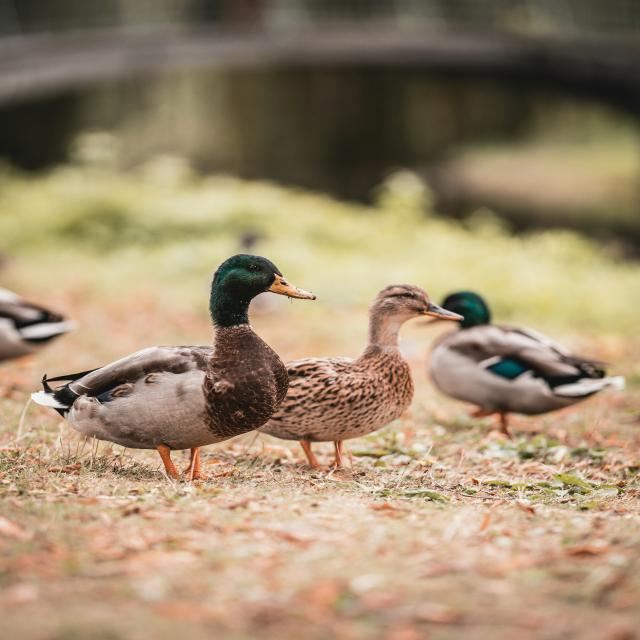ducks: (37, 238, 312, 514), (283, 264, 455, 526), (428, 272, 628, 474)
